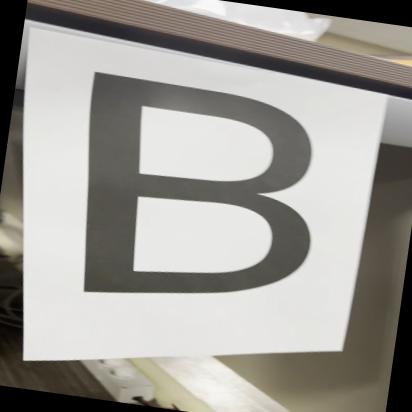seat: (37, 58, 380, 332)
